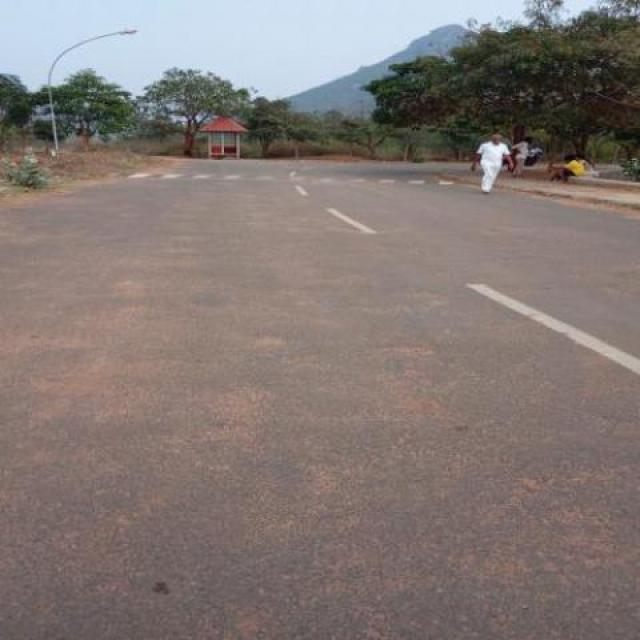Speed Bump: (112, 170, 458, 186)
